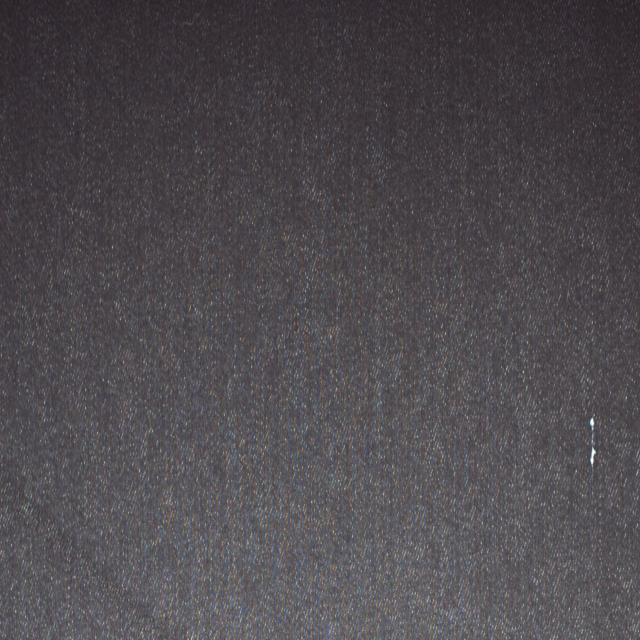Knot: (590, 416, 599, 476)
